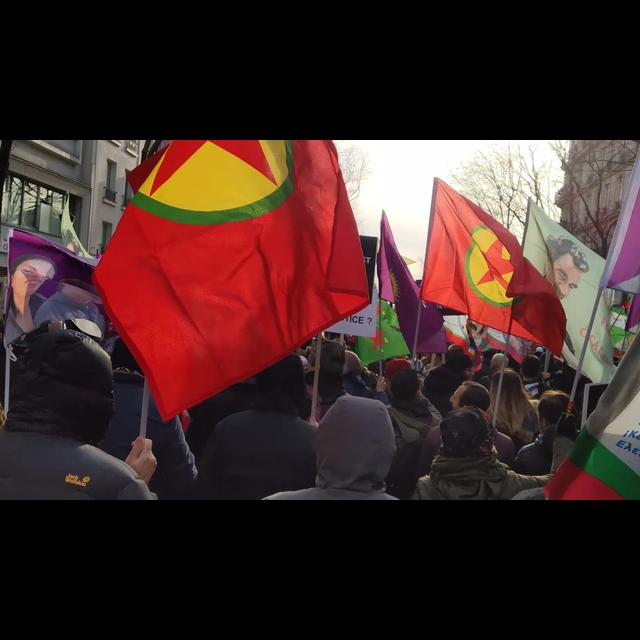PKK: (463, 222, 530, 308)
